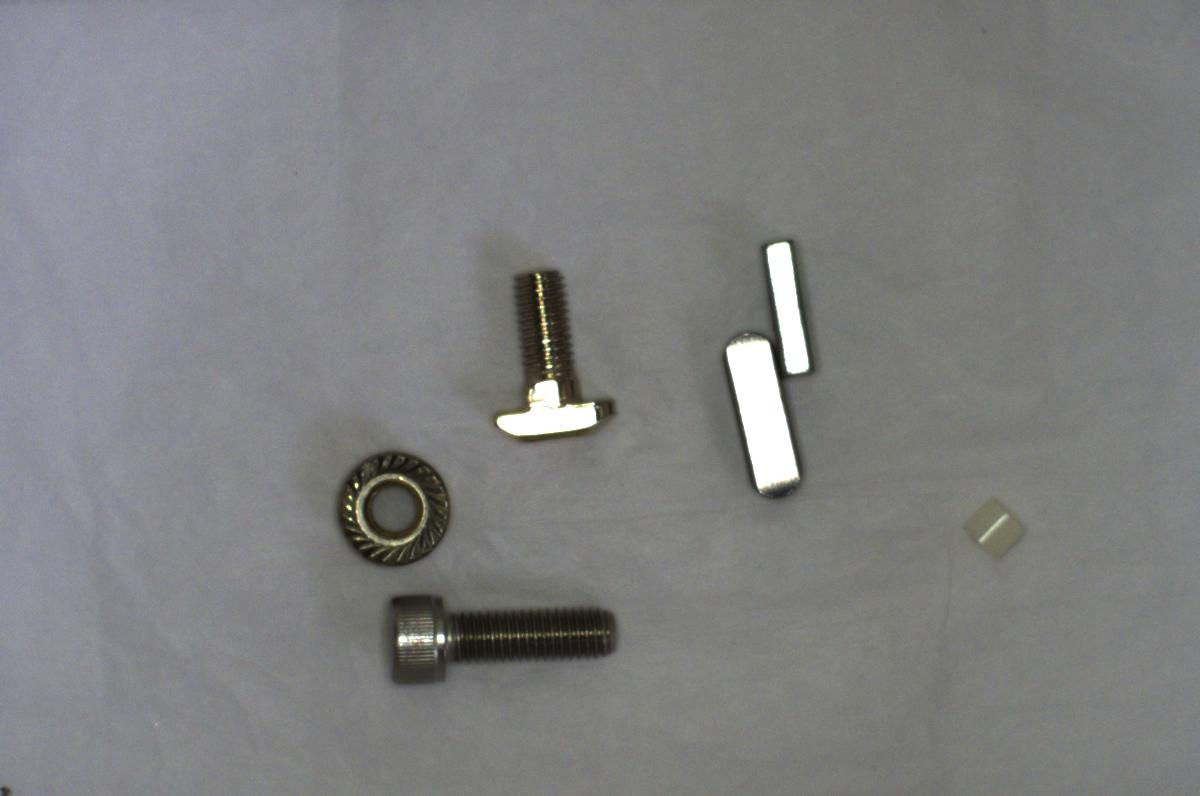Flange nut: (321, 443, 457, 573)
Hexagon screw: (373, 581, 626, 695)
Keybar: (718, 322, 800, 500)
Plastic cushion pillar: (960, 488, 1031, 561)
Rectangular nut: (755, 229, 818, 382)
T-shaped screw: (484, 263, 613, 441)
